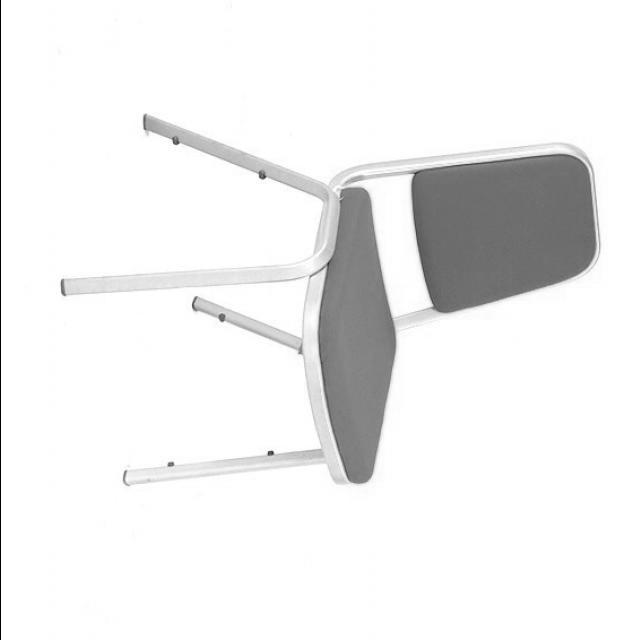chair: (55, 110, 602, 490)
